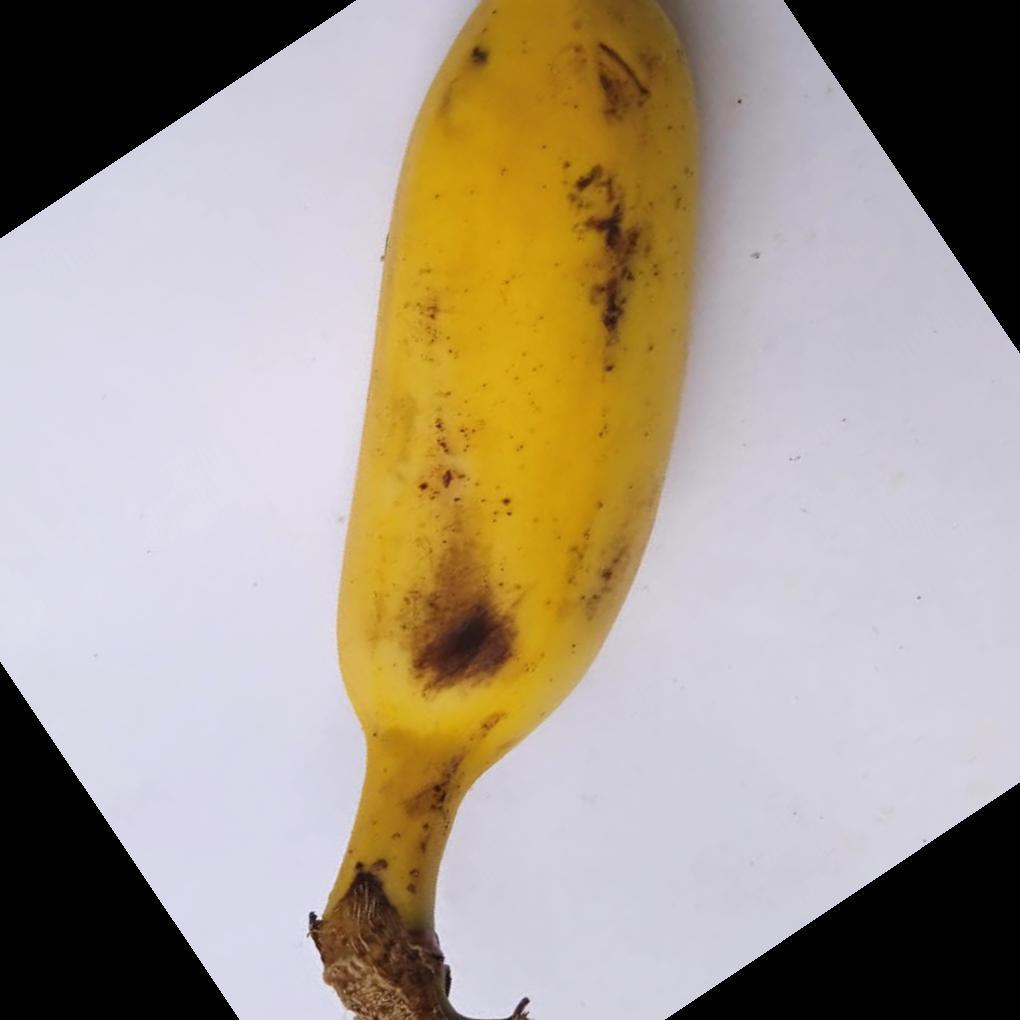Banana Ripe: (282, 0, 792, 1020)
